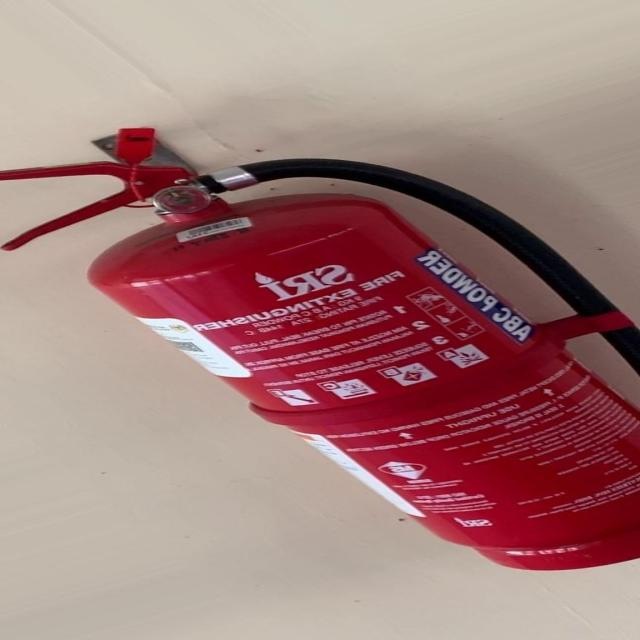fire_extinguisher: (0, 121, 639, 580)
